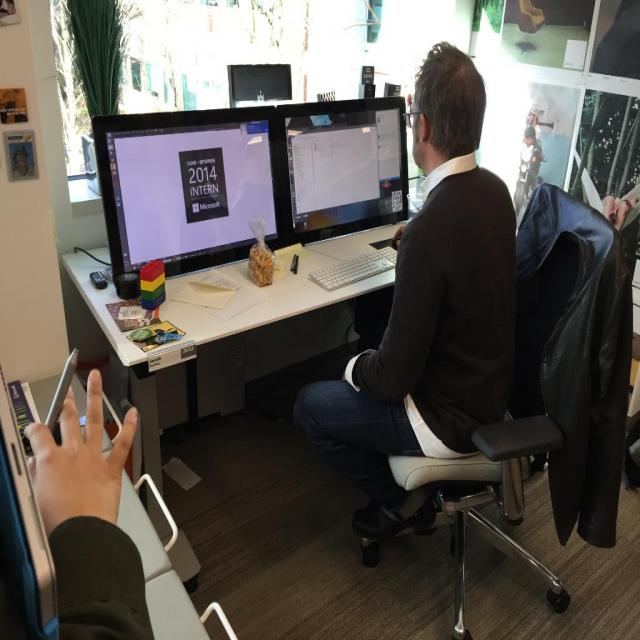chair: (348, 201, 607, 637)
desk: (61, 180, 519, 592)
keyboard: (306, 250, 397, 292)
person: (293, 44, 518, 528), (22, 370, 154, 640)
tv: (92, 108, 279, 284), (270, 96, 410, 248), (228, 64, 292, 108)
